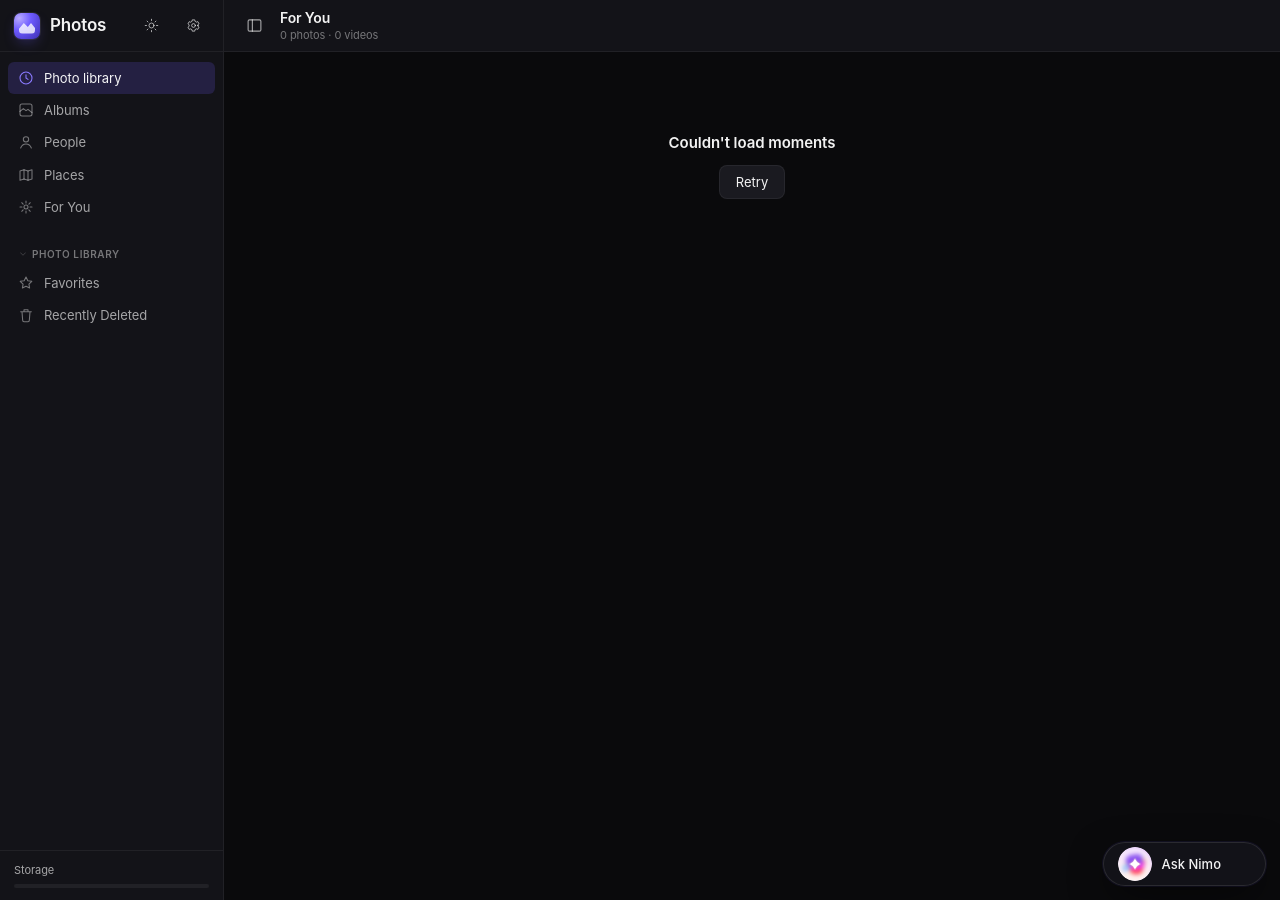
Test: a failed list fetch is not reported as a deleted moment › retry refetches the list and recovers into the loaded state
expect the element with test id "mo-load-failed" is shown: met, box [669,133,835,199]
Click the button with test id "mo-load-failed-retry": (752, 182) [719,165,785,199]
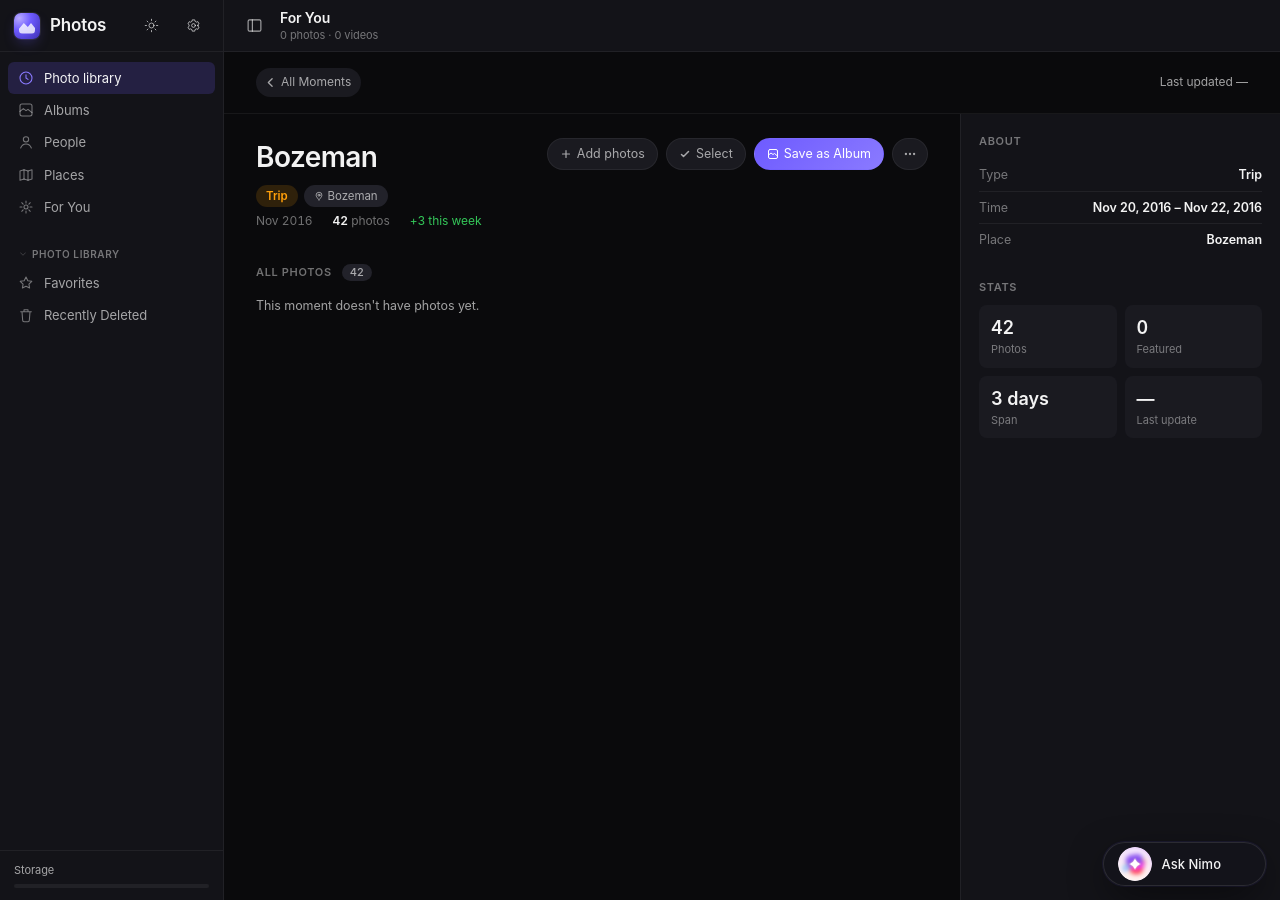
expect the text "Bozeman" is shown: met, box [256,140,377,174]
